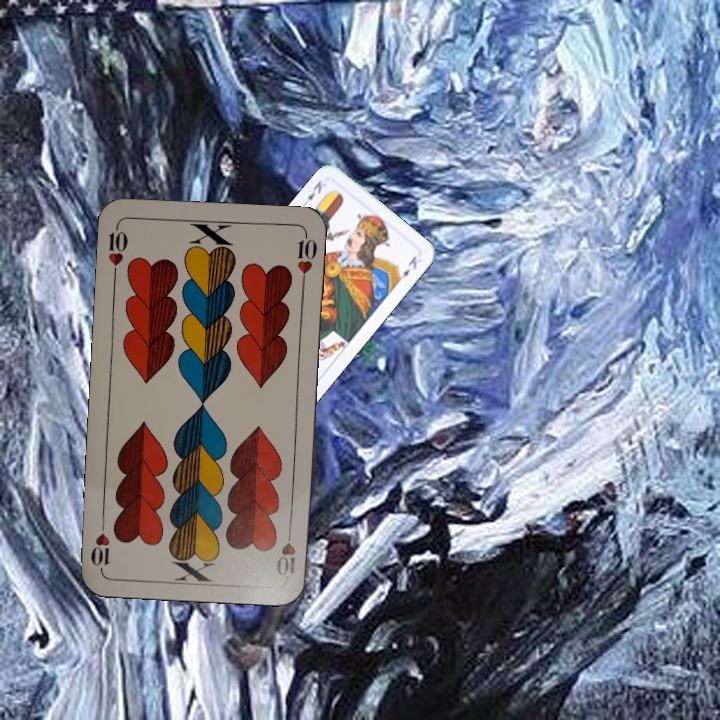EK: (303, 176, 324, 203)
H10: (104, 222, 130, 281), (273, 521, 298, 578)
